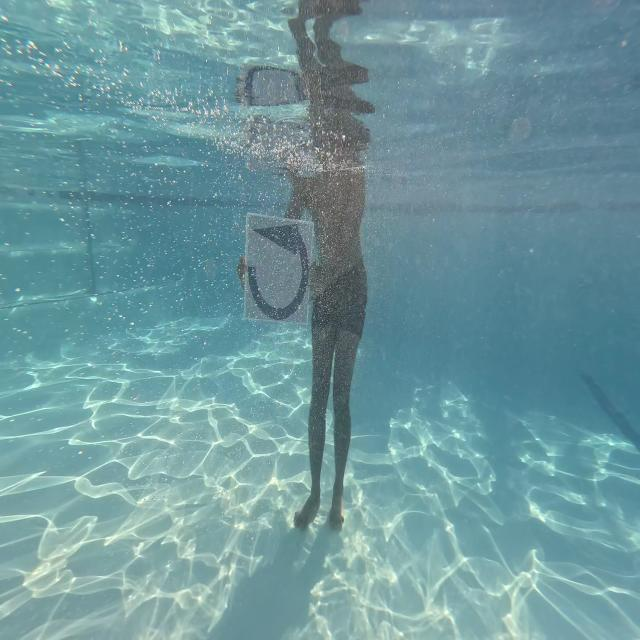red_side: (243, 210, 313, 330)
